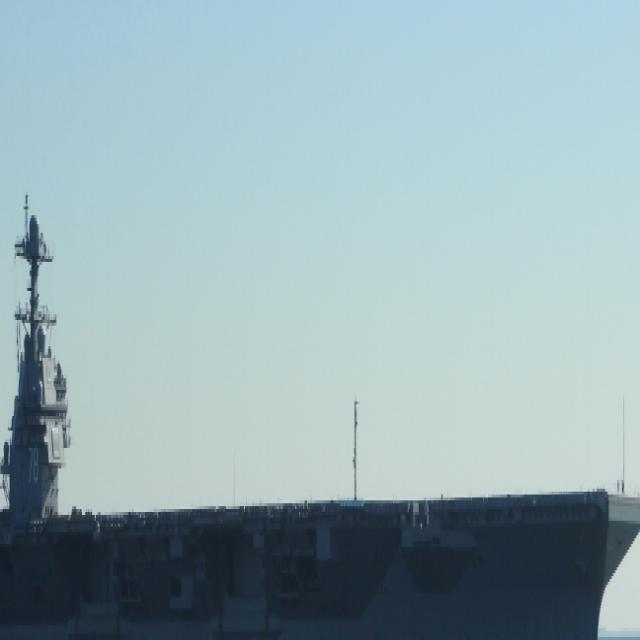Portanaves: (1, 146, 640, 640)
